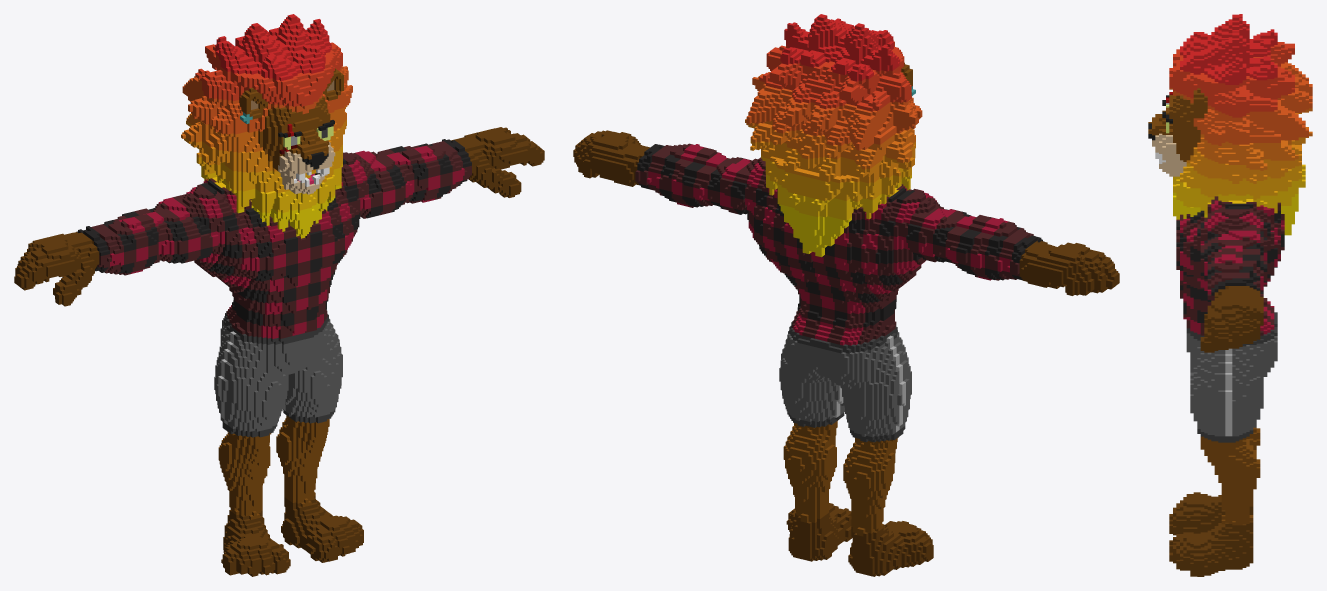
The model's file is 1035-ugL9ASIC.fbx.
3 views of the same model, side by side, from view 1: azimuth 30°, elevation 25°; view 2: azimuth 150°, elevation 25°; view 3: azimuth 270°, elevation 25° (orthographic). The views are drawn at different scales.
Visible parts, largest first — view 1: open; view 2: open; view 3: open.
Boxes of the visible parts, left/top/right/bottom form: open: left=14, top=14, right=544, bottom=576; open: left=573, top=14, right=1119, bottom=576; open: left=1148, top=14, right=1312, bottom=576.
Size of the model in its own units: 17.2 by 16.5 by 4.7.
6 materials, 6 textured.
